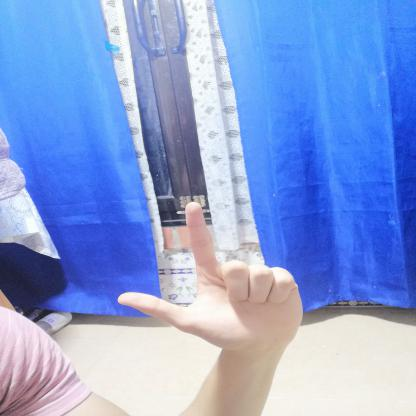LAAM: (96, 190, 320, 366)
